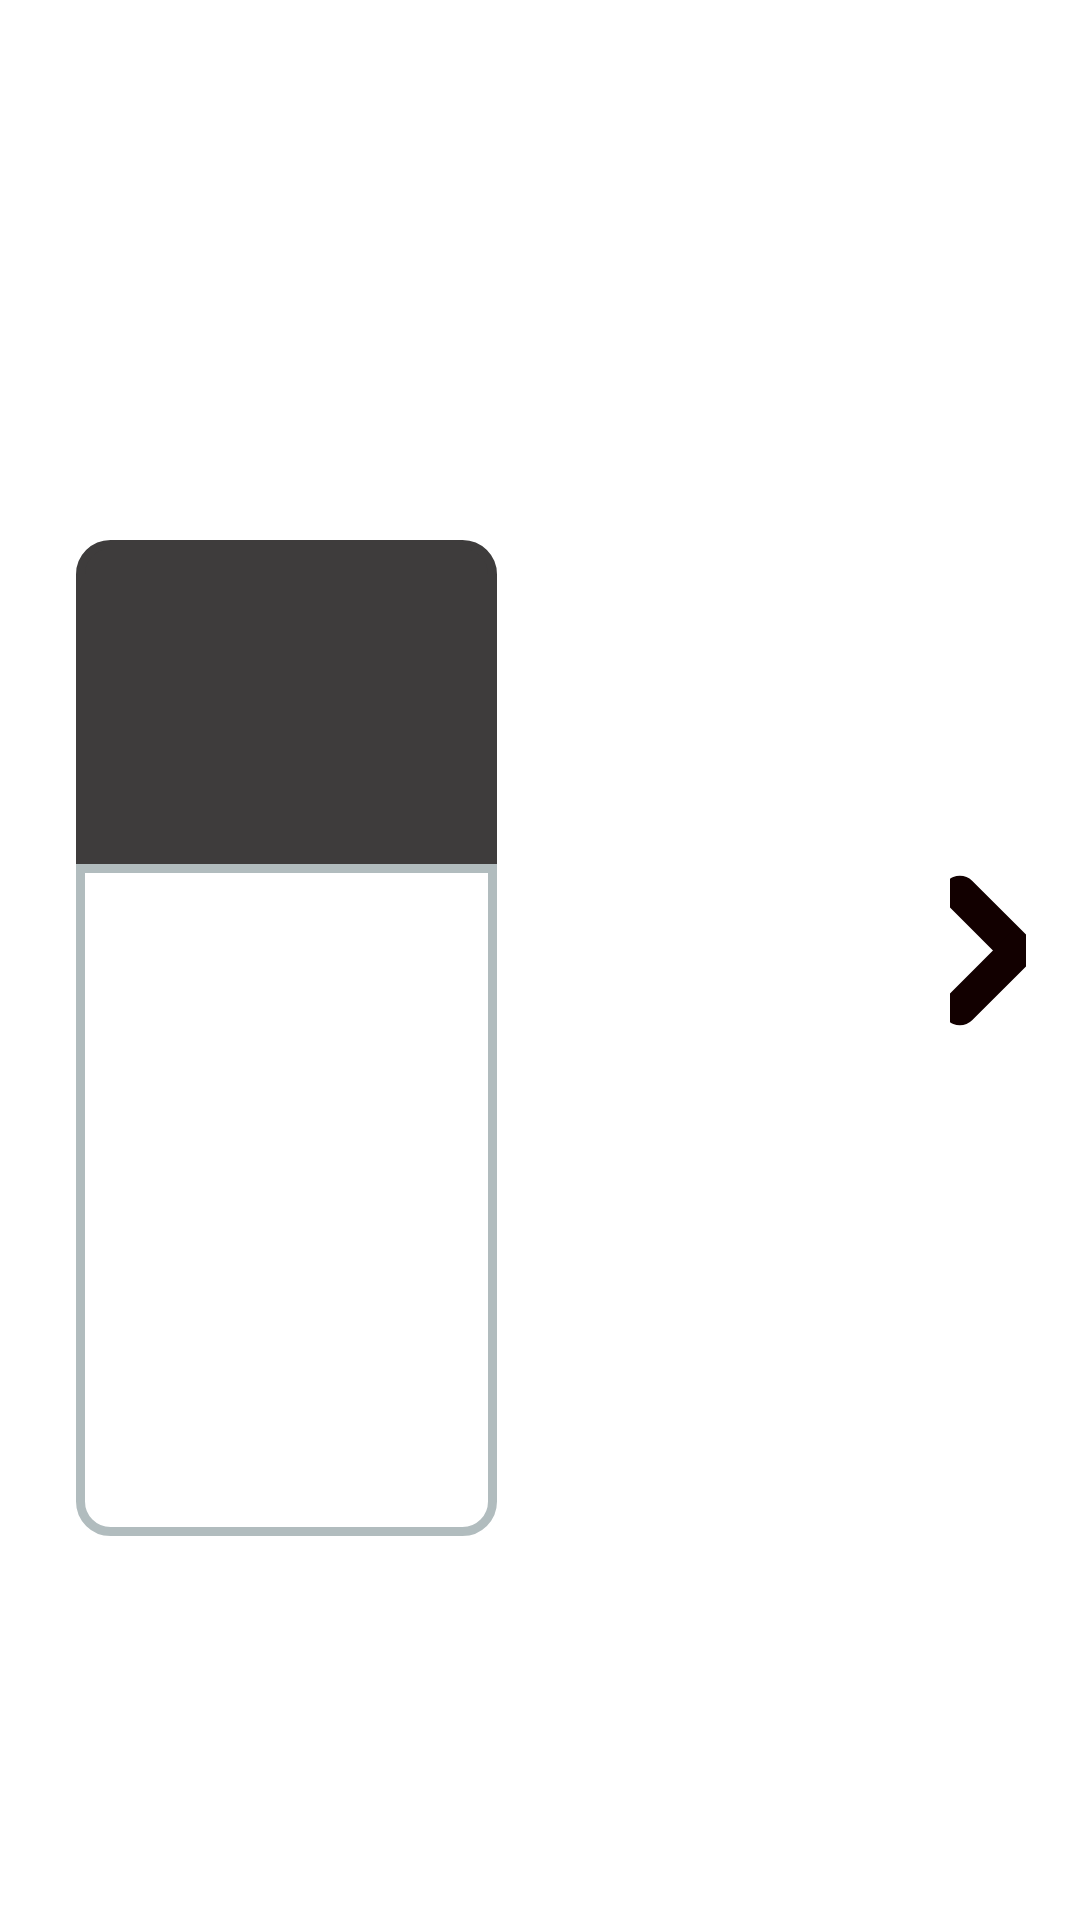

Icons on this 1080 × 1920 Android screen, each with the point to tap as (x=x, y=y):
arrow shape: (x=988, y=950)
